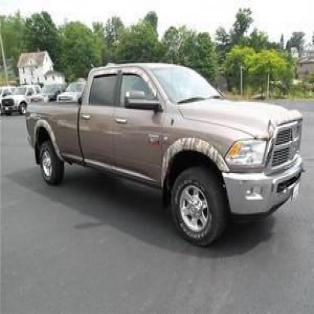Auto: (15, 49, 302, 251)
